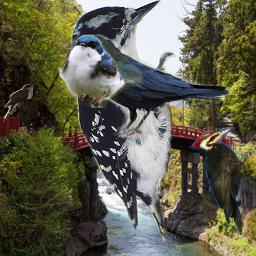Crow: (64, 34, 232, 140)
Cuckoo: (3, 83, 37, 123)
Swallow: (58, 34, 143, 108)
Woodpecker: (71, 0, 179, 246), (189, 127, 252, 235)
